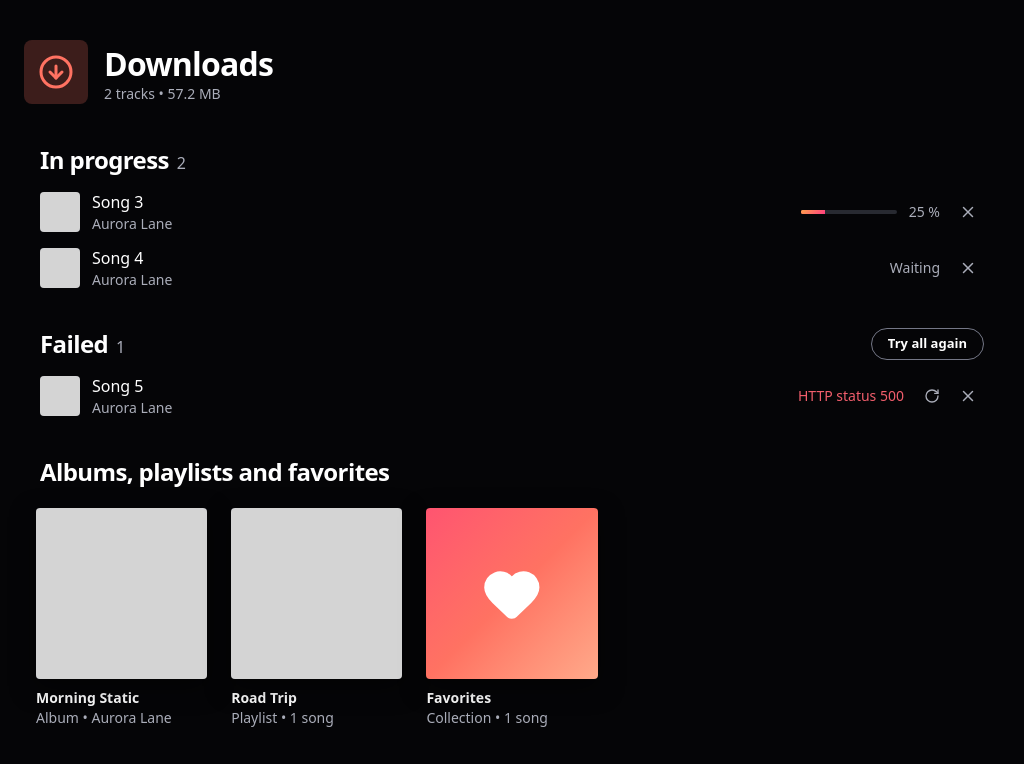
Scenario: downloads page › cancels a running download
What coordinates should you click on to do the following:
click the button named "Cancel" in the row of "Song 3"
I would click on:
 (968, 212)
Its box is 952,196 -> 984,228.
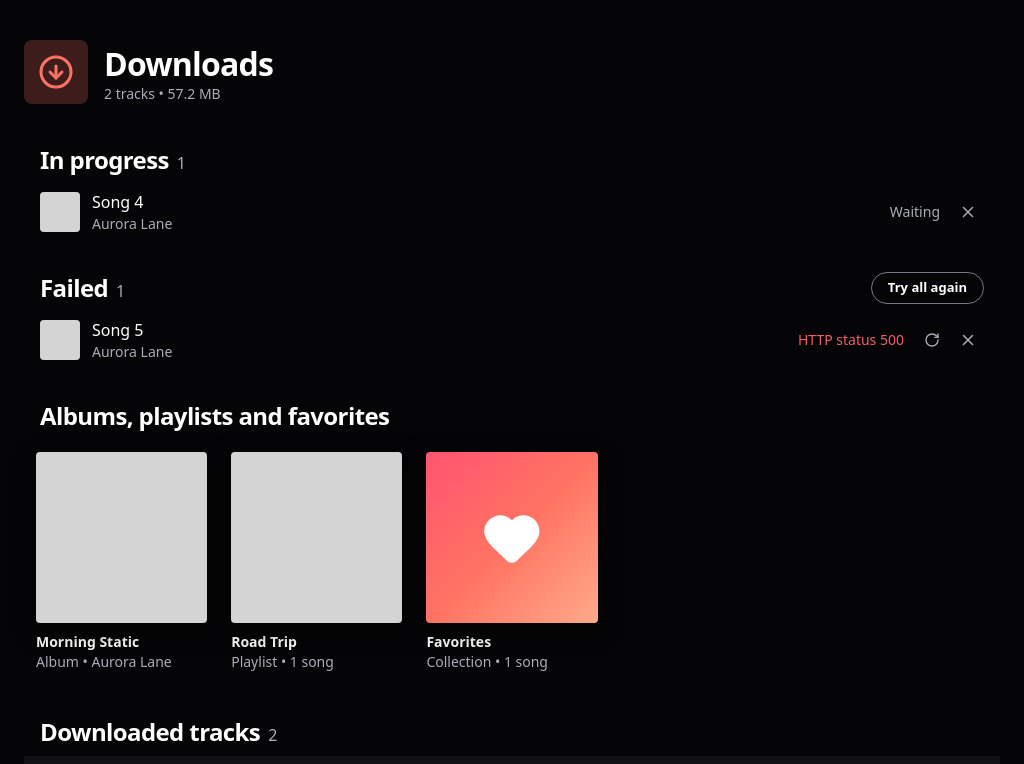
Now the text "Song 3" is gone
